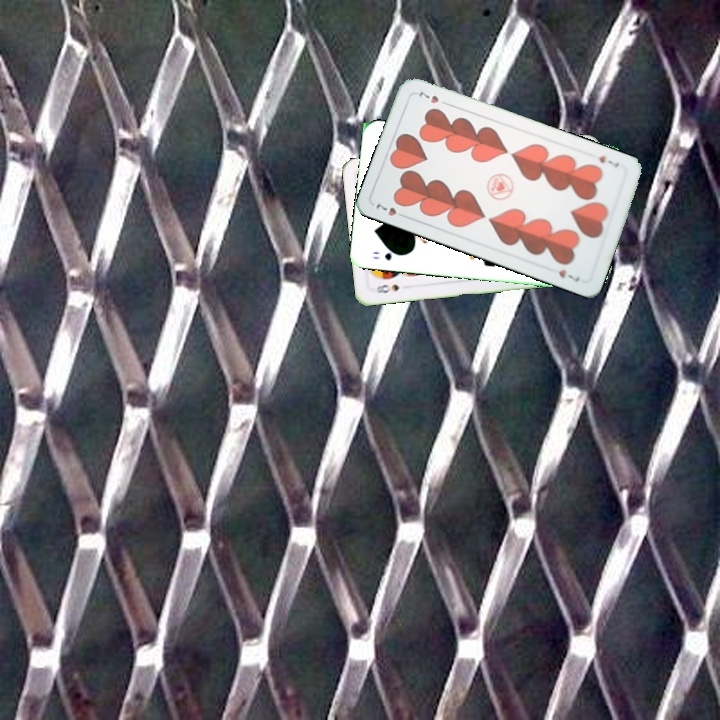GO: (369, 246, 405, 263)
H7: (372, 200, 410, 221), (595, 151, 622, 170)
S8: (373, 280, 402, 296)
